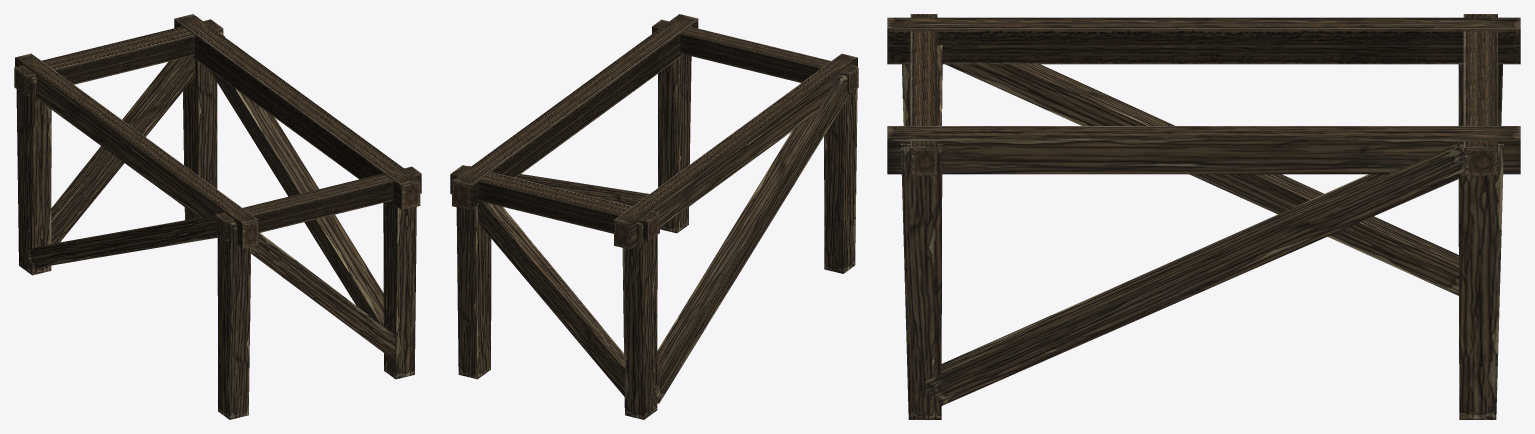
File: Wood_4X4X8_02.fbx
3 renders of one model, left to right at view 1: azimuth 30°, elevation 25°; view 2: azimuth 150°, elevation 25°; view 3: azimuth 270°, elevation 25°, orthographic. The views are drawn at different scales.
Visible parts, largest first — view 1: Wood_4X4X8_02; view 2: Wood_4X4X8_02; view 3: Wood_4X4X8_02.
Part boxes in pixels (bbox=[...]): Wood_4X4X8_02: bbox=[14, 14, 421, 419]; Wood_4X4X8_02: bbox=[450, 14, 858, 419]; Wood_4X4X8_02: bbox=[887, 14, 1520, 419].
Bounding box in the file's own units: 4 × 3.9 × 8.
